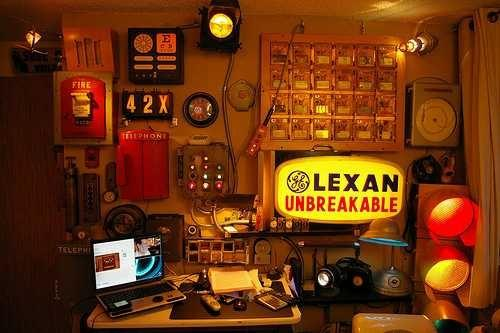red: (425, 188, 480, 243)
